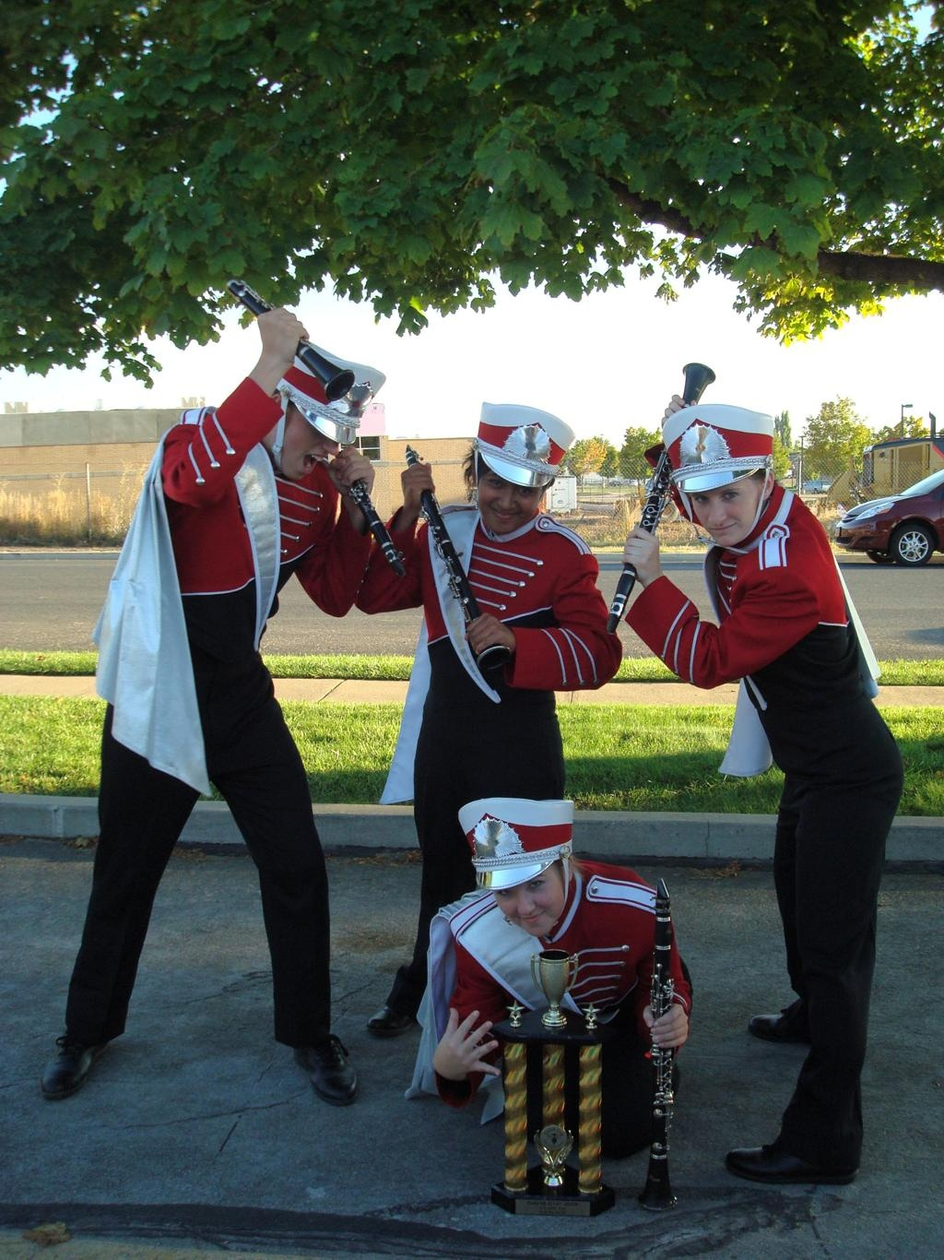human_face: (270, 381, 341, 477), (477, 455, 543, 536), (497, 856, 563, 934), (688, 472, 759, 543)
